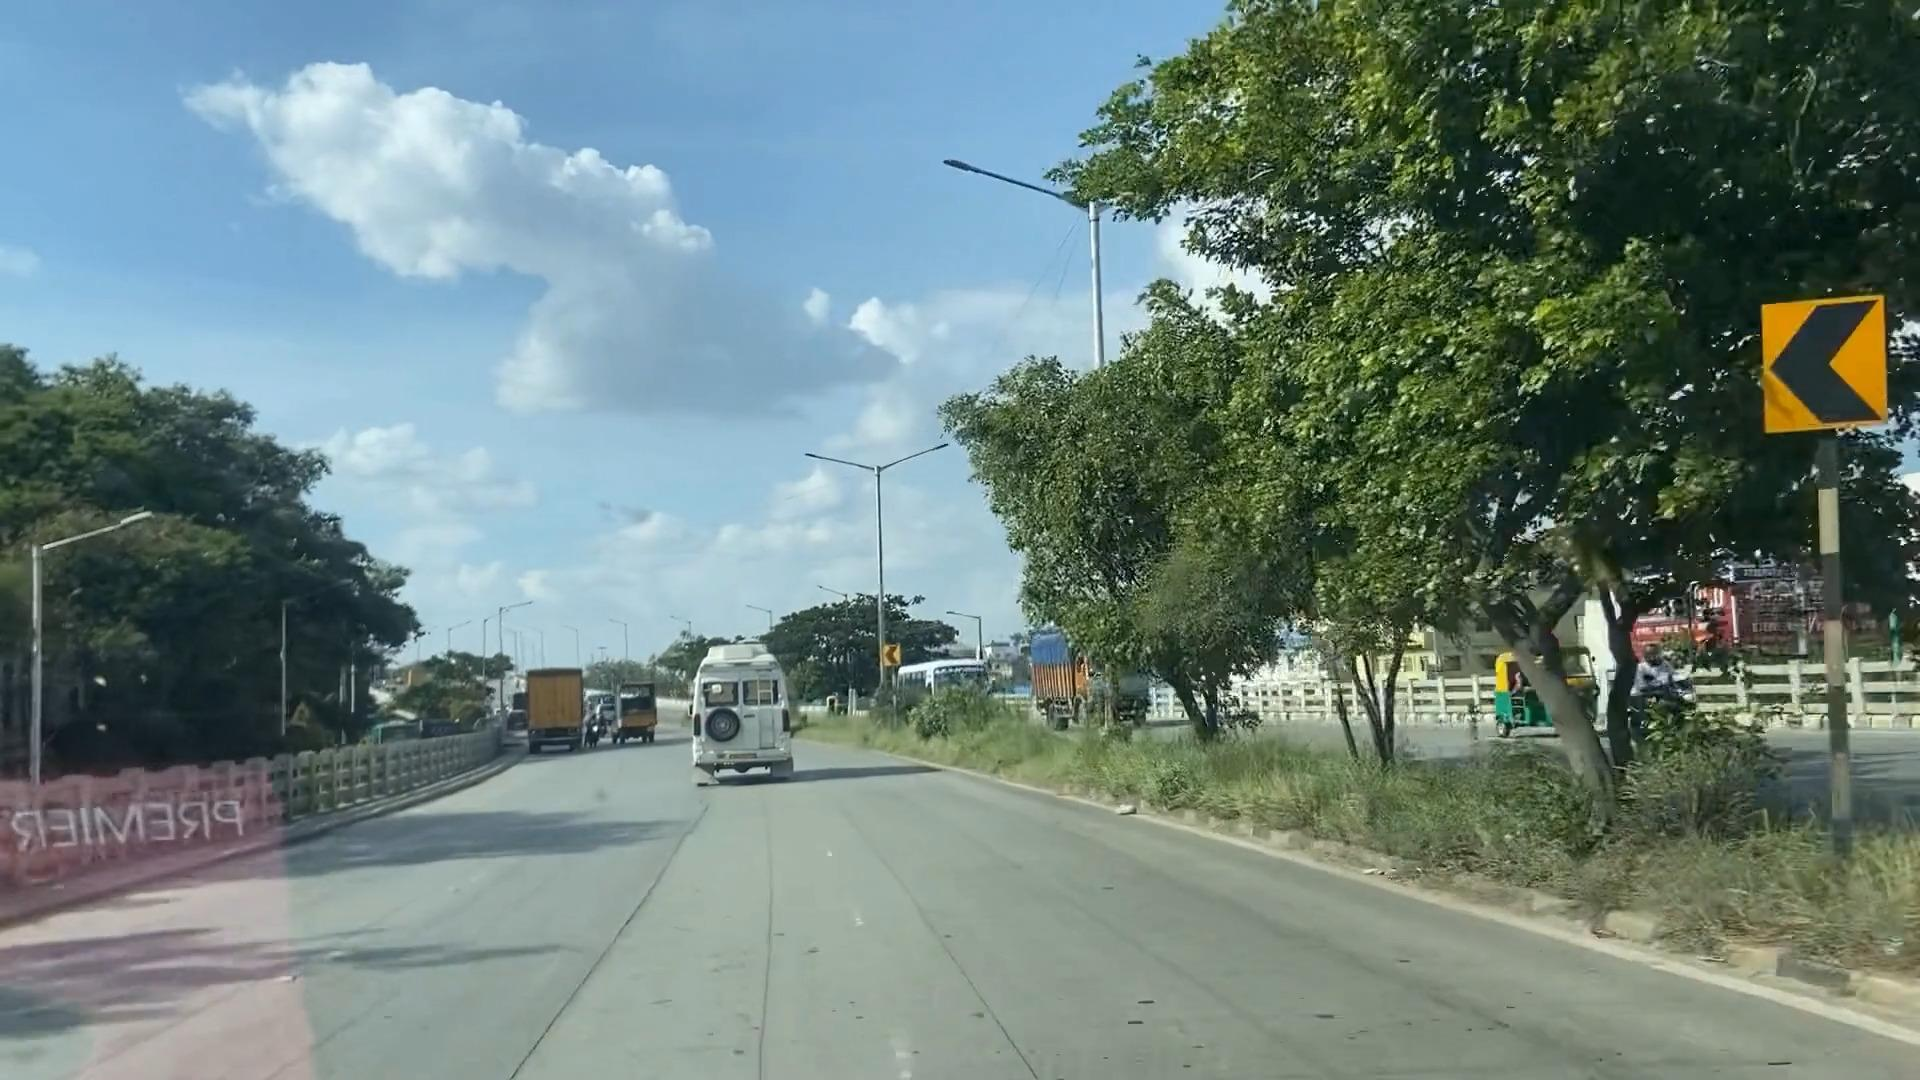HMV: (687, 642, 806, 774)
